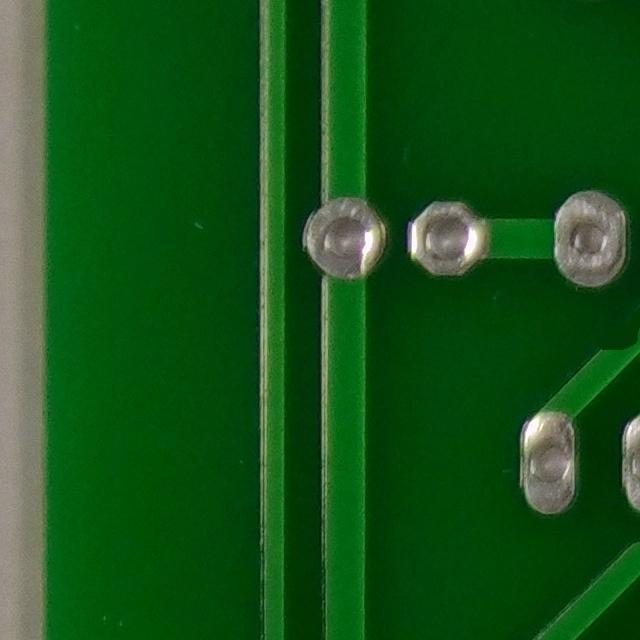mouse_bite: (584, 302, 640, 363)
